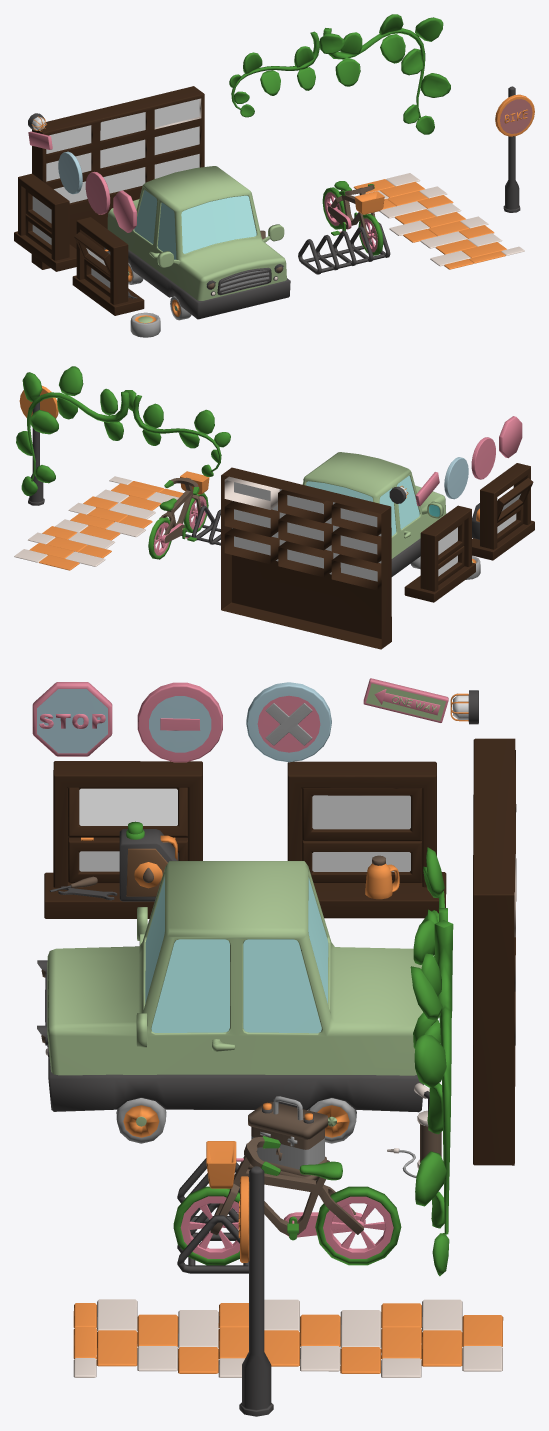
The model's file is Garage .fbx.
The picture shows the model from 3 angles, top to bottom: view 1: azimuth 30°, elevation 25°; view 2: azimuth 150°, elevation 25°; view 3: azimuth 270°, elevation 25°; orthographic projection. The views are drawn at different scales.
Parts seen in each view (by area): view 1: Car_1, Door_1, Liana_1, Path_1, Window_2, Window_1, Bike_1, Bike_Sign_1, Bike_Parking_1, Sign_2, Sign_3, Sign_1 (+1 smaller); view 2: Door_1, Path_1, Liana_1, Car_1, Window_1, Window_2, Bike_1, Bike_Sign_1, Sign_2, Sign_3, Sign_1, Bike_Parking_1 (+1 smaller); view 3: Car_1, Path_1, Window_1, Door_1, Window_2, Bike_1, Liana_1, Bike_Sign_1, Sign_2, Sign_3, Sign_1, Car_Battery_1 (+6 smaller).
Boxes of the visible parts, left/top/right/bottom form: Car_1: left=104, top=166, right=290, bottom=320; Door_1: left=31, top=86, right=204, bottom=269; Liana_1: left=229, top=14, right=450, bottom=134; Path_1: left=353, top=173, right=524, bottom=269; Window_2: left=72, top=217, right=144, bottom=315; Window_1: left=14, top=173, right=76, bottom=271; Bike_1: left=322, top=181, right=384, bottom=255; Bike_Sign_1: left=495, top=86, right=534, bottom=212; Bike_Parking_1: left=298, top=222, right=390, bottom=274; Sign_2: left=85, top=171, right=110, bottom=214; Sign_3: left=58, top=151, right=82, bottom=194; Sign_1: left=113, top=190, right=136, bottom=232; Door_1: left=221, top=467, right=391, bottom=649; Path_1: left=14, top=476, right=184, bottom=570; Liana_1: left=16, top=366, right=230, bottom=495; Car_1: left=302, top=452, right=446, bottom=576; Window_1: left=404, top=505, right=475, bottom=602; Window_2: left=472, top=463, right=534, bottom=560; Bike_1: left=148, top=471, right=209, bottom=559; Bike_Sign_1: left=19, top=386, right=58, bottom=505; Sign_2: left=471, top=437, right=495, bottom=479; Sign_3: left=444, top=457, right=468, bottom=499; Sign_1: left=499, top=416, right=522, bottom=458; Bike_Parking_1: left=181, top=505, right=220, bottom=545; Car_1: left=37, top=861, right=423, bottom=1143; Path_1: left=73, top=1299, right=503, bottom=1377; Window_1: left=287, top=761, right=446, bottom=918; Door_1: left=473, top=738, right=516, bottom=1165; Window_2: left=44, top=761, right=202, bottom=918; Bike_1: left=173, top=1136, right=401, bottom=1265; Liana_1: left=410, top=847, right=453, bottom=1276; Bike_Sign_1: left=238, top=1166, right=273, bottom=1416; Sign_2: left=137, top=682, right=222, bottom=762; Sign_3: left=246, top=682, right=331, bottom=762; Sign_1: left=32, top=682, right=112, bottom=756; Car_Battery_1: left=248, top=1096, right=329, bottom=1180.
Bounding box in the file's own units: 1157 × 433 × 516.
